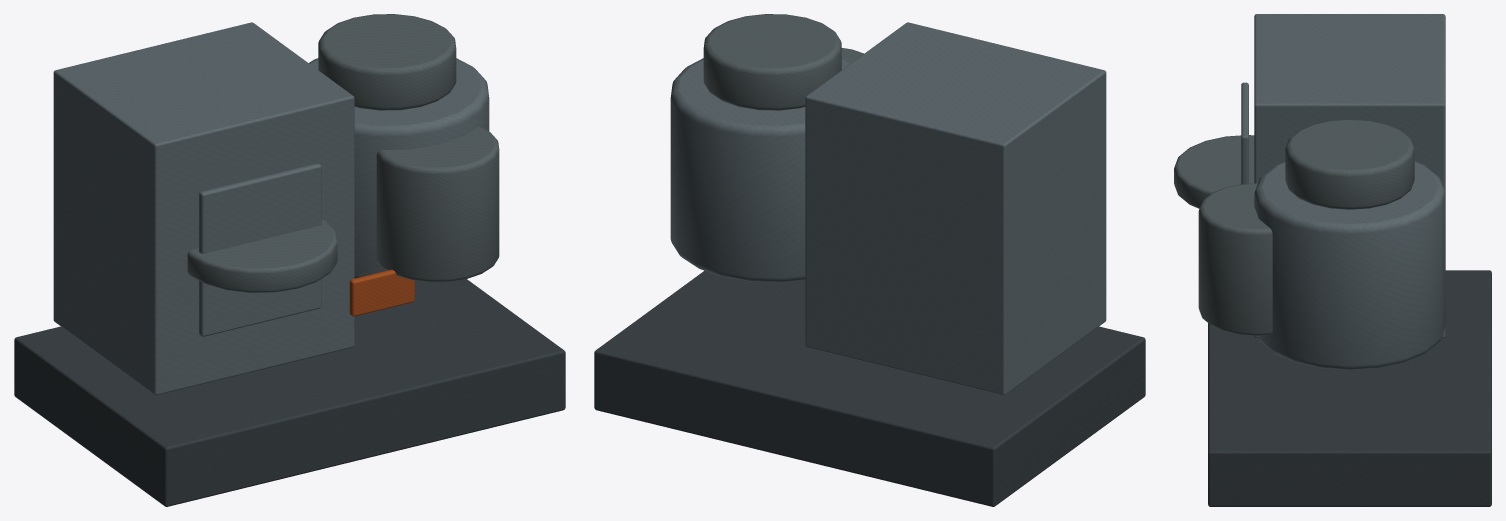
File: ReactorCoolantPump.fbx
3 views of the same model, side by side, from view 1: azimuth 30°, elevation 25°; view 2: azimuth 150°, elevation 25°; view 3: azimuth 270°, elevation 25° (orthographic). The views are drawn at different scales.
Visible parts, largest first — view 1: ReactorCoolantPump_Mesh; view 2: ReactorCoolantPump_Mesh; view 3: ReactorCoolantPump_Mesh.
Boxes of the visible parts, left/top/right/bottom form: ReactorCoolantPump_Mesh: left=14, top=14, right=565, bottom=506; ReactorCoolantPump_Mesh: left=594, top=14, right=1145, bottom=506; ReactorCoolantPump_Mesh: left=1174, top=14, right=1491, bottom=506.
Size of the model in its own units: 140 by 114 by 103.
